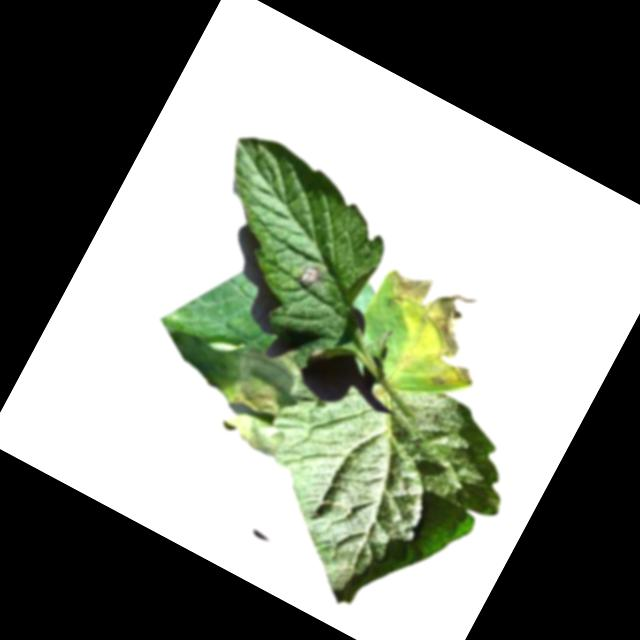Late_blight: (138, 303, 319, 461), (353, 259, 507, 401), (295, 261, 326, 294)
healthy: (212, 329, 536, 640)
